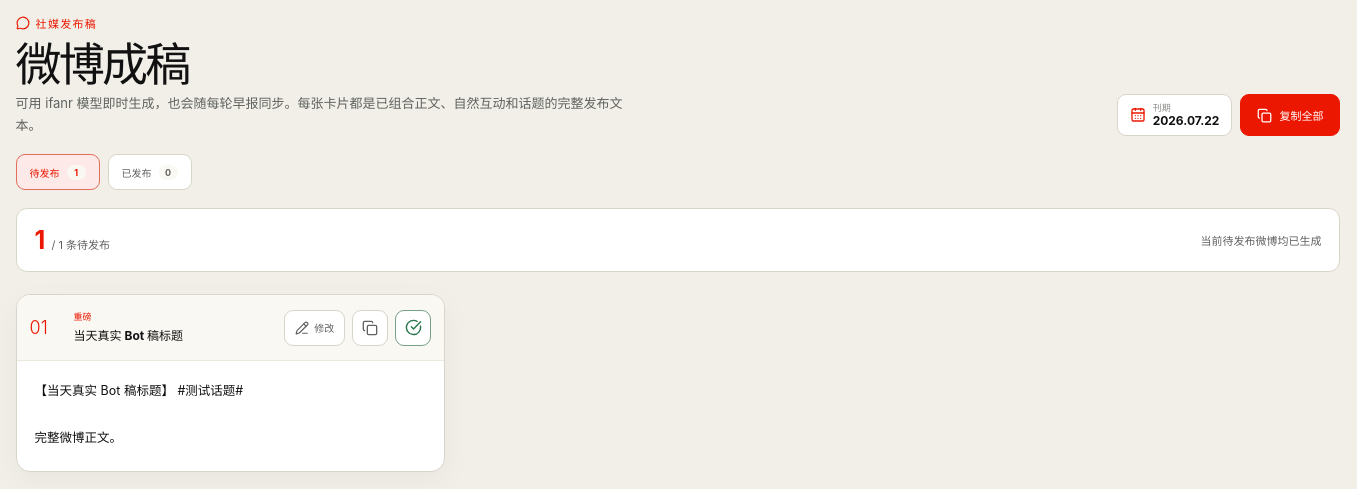
Scenario: App › copies the complete Weibo card through the HTTP-compatible clipboard fallback
Click the button named "复制微博正文和配图": (370, 328) [352,310,388,346]
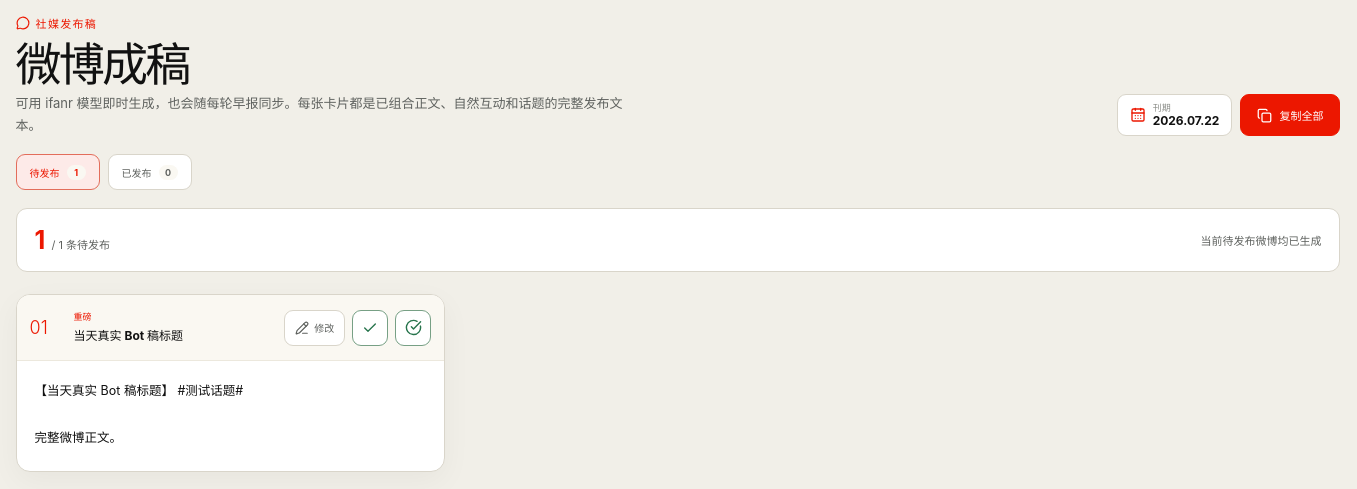
Now the button named "已复制" is shown, box [352,310,388,346]
